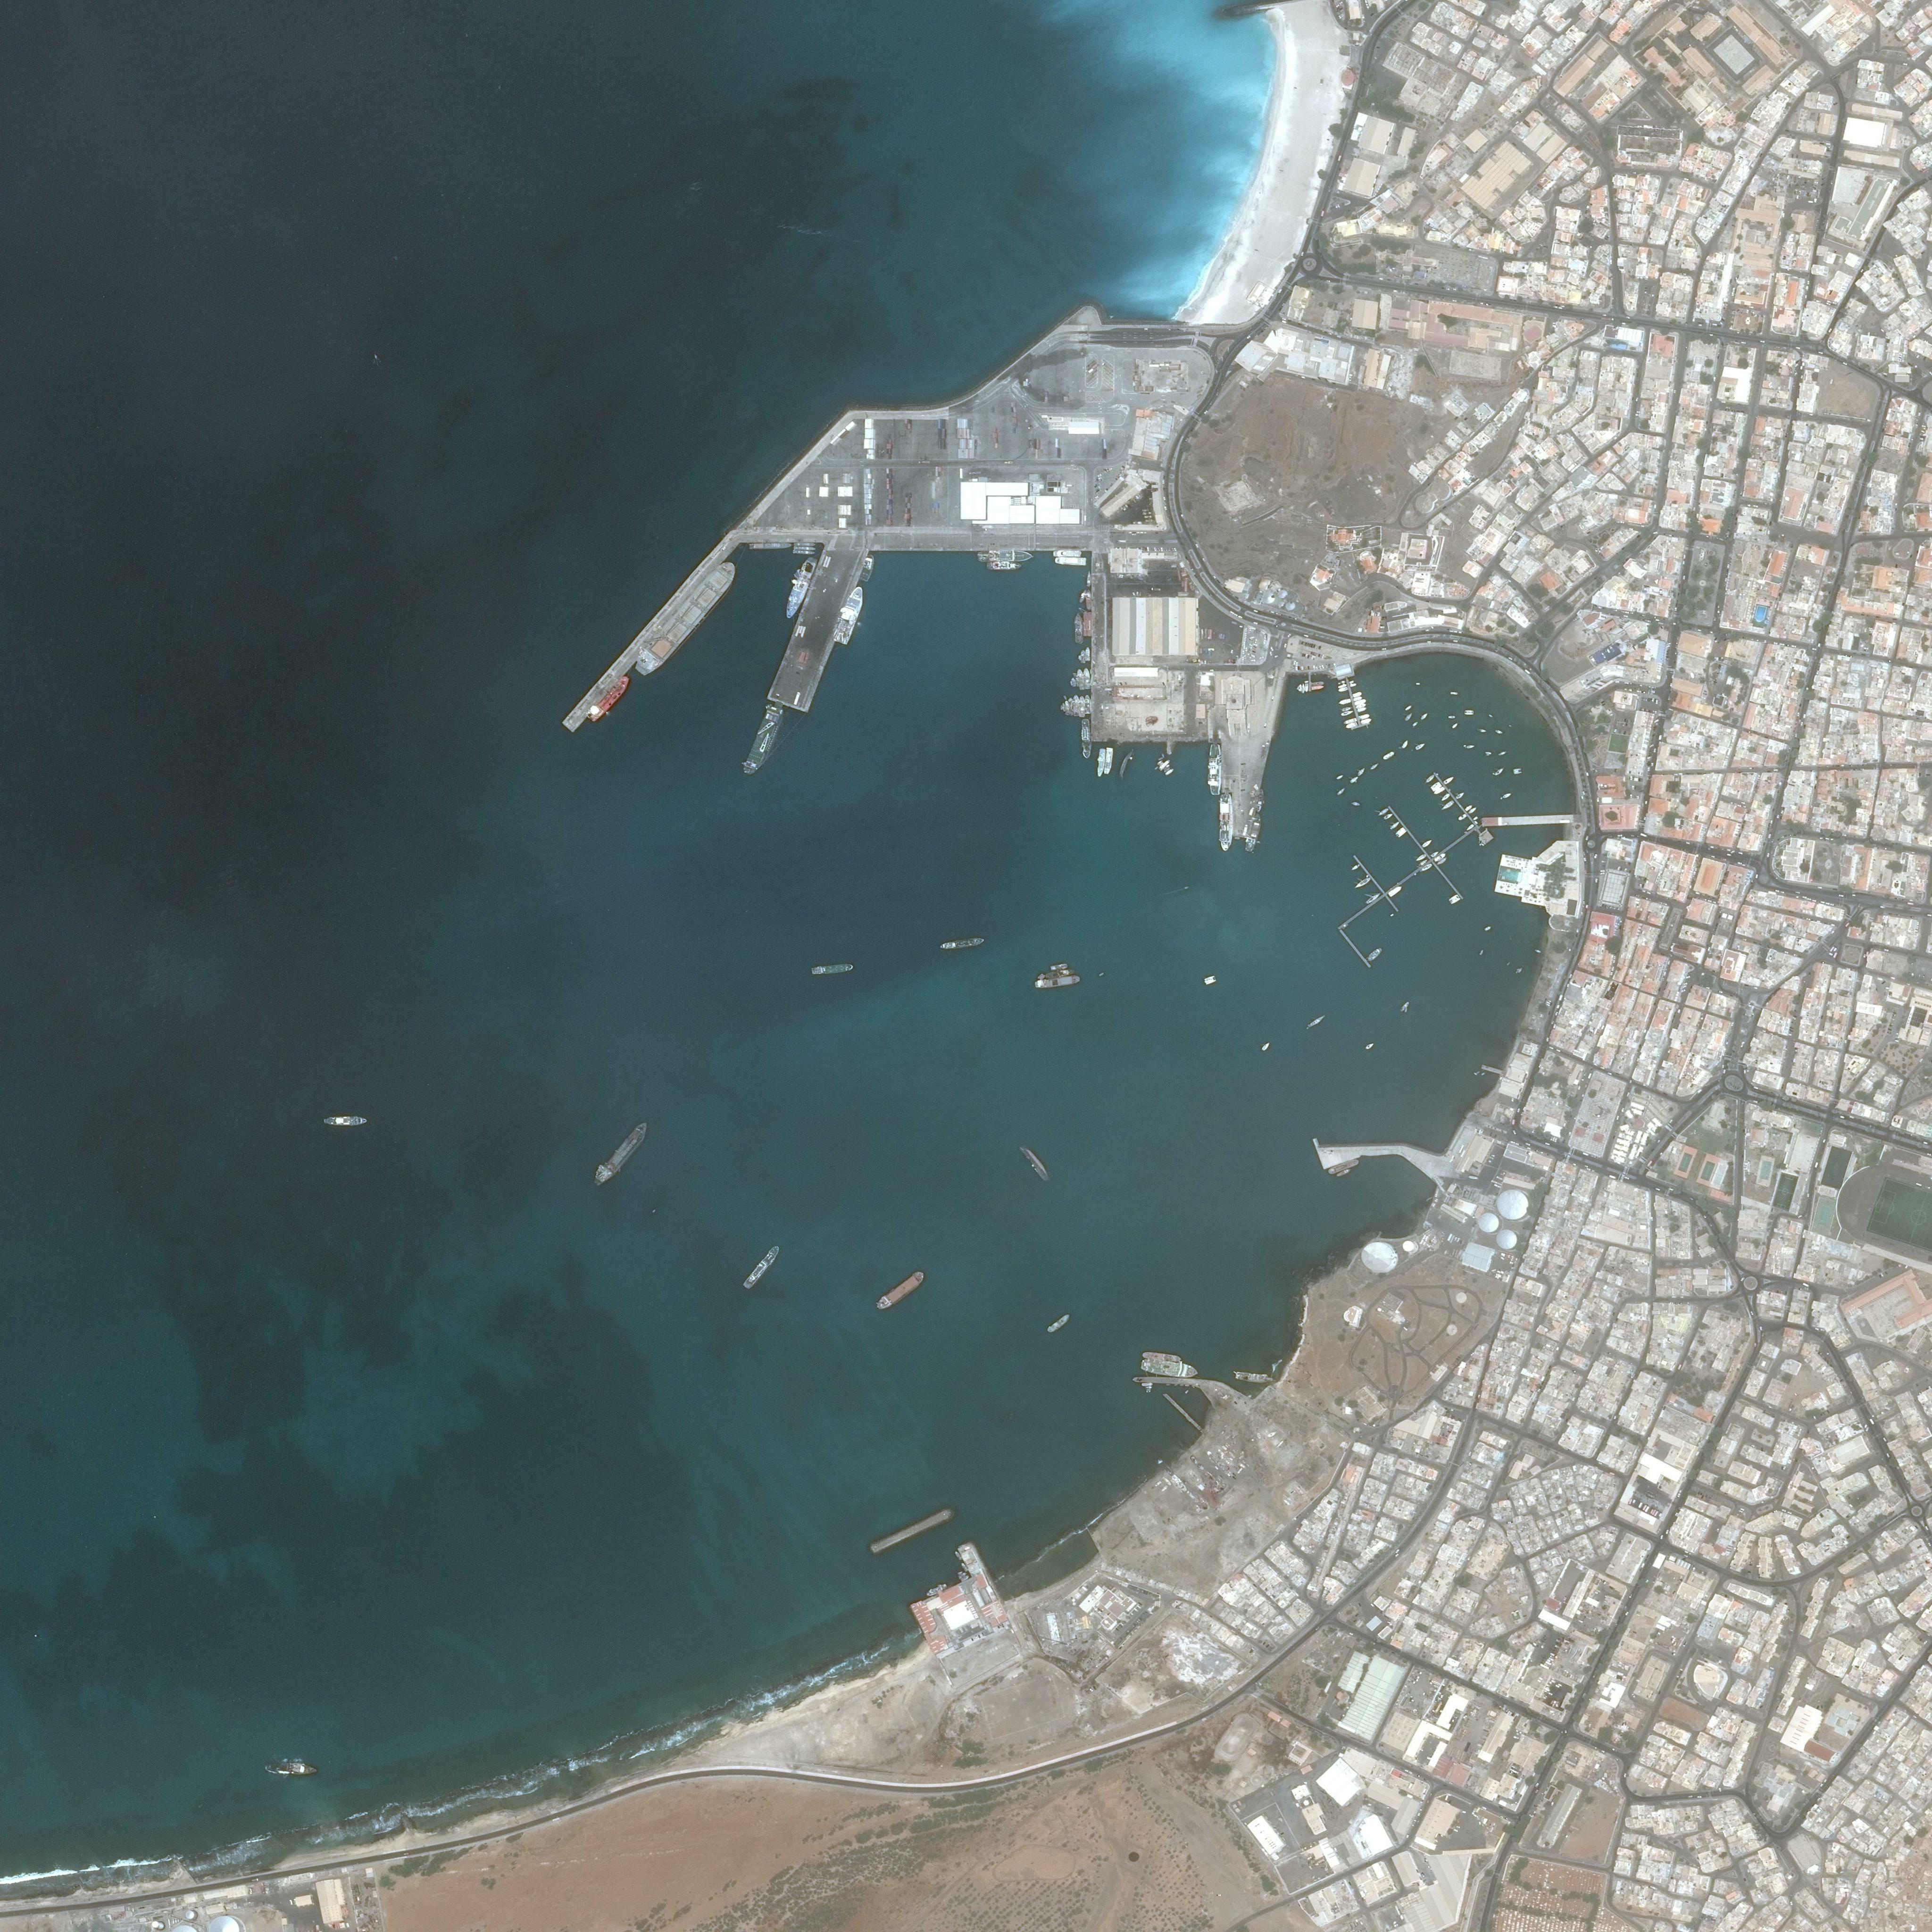harbor: (1288, 770, 1516, 970), (563, 531, 743, 732), (768, 540, 869, 713), (1116, 1366, 1258, 1424), (1313, 1132, 1445, 1189), (1488, 833, 1568, 924), (1217, 732, 1274, 846), (957, 1541, 985, 1578)
ship: (630, 557, 743, 679), (587, 1120, 655, 1189), (738, 706, 786, 778), (778, 556, 819, 621), (874, 1269, 929, 1313), (830, 584, 869, 646), (586, 674, 633, 724), (741, 1244, 782, 1290), (1139, 1355, 1200, 1382), (1219, 793, 1233, 855), (1033, 973, 1081, 991), (1207, 743, 1221, 796), (1244, 812, 1261, 855), (267, 1762, 318, 1776), (977, 550, 1035, 563), (1233, 1369, 1276, 1385), (1327, 1157, 1361, 1177), (1044, 1311, 1072, 1334), (939, 936, 985, 950), (858, 554, 878, 582), (1141, 1350, 1182, 1362), (812, 962, 853, 975), (324, 1116, 366, 1127), (1081, 718, 1092, 759), (925, 1582, 948, 1599), (985, 563, 1023, 573), (1306, 1012, 1327, 1028), (1054, 556, 1086, 566), (1095, 748, 1106, 778), (1104, 747, 1115, 775), (750, 543, 793, 550), (1352, 876, 1373, 890), (1074, 612, 1083, 646), (1366, 947, 1384, 962), (1364, 890, 1382, 906), (1046, 970, 1076, 978), (1076, 667, 1086, 690), (1334, 1166, 1353, 1178), (1256, 787, 1265, 814), (1440, 798, 1456, 812), (1387, 885, 1403, 899), (1083, 665, 1092, 690), (1072, 694, 1081, 718), (1380, 750, 1398, 763), (1053, 550, 1083, 557), (1157, 757, 1171, 771), (1083, 694, 1092, 715), (1433, 851, 1447, 863), (1394, 826, 1408, 839), (1419, 862, 1433, 874), (1415, 856, 1430, 869), (1049, 962, 1069, 971), (1079, 695, 1086, 718), (1085, 587, 1092, 610), (1083, 646, 1092, 663), (1341, 717, 1359, 725), (1260, 1040, 1272, 1053), (1421, 837, 1433, 849), (1433, 786, 1445, 798), (1415, 851, 1428, 863), (1203, 975, 1217, 985), (1376, 807, 1391, 817), (1447, 893, 1461, 904), (1077, 589, 1086, 605), (1085, 570, 1092, 589), (1467, 805, 1479, 816), (1399, 1000, 1410, 1012), (1442, 775, 1454, 786), (1353, 699, 1368, 708), (1338, 697, 1352, 706), (1341, 708, 1355, 717), (1345, 722, 1359, 731), (1435, 856, 1449, 865), (1067, 697, 1074, 715), (793, 550, 816, 556), (1493, 766, 1504, 777), (1309, 679, 1325, 686), (1419, 711, 1430, 722), (1403, 711, 1414, 722), (1364, 1040, 1375, 1051), (1463, 803, 1474, 814), (1465, 823, 1476, 833), (1336, 786, 1346, 796), (1424, 775, 1435, 786), (1164, 766, 1175, 777), (1440, 793, 1451, 803), (1369, 761, 1380, 771), (1355, 766, 1366, 777), (1355, 702, 1368, 711), (1500, 791, 1513, 800), (1511, 766, 1523, 775), (961, 1562, 970, 1573), (1454, 791, 1465, 800), (1352, 690, 1362, 699), (1430, 849, 1440, 858), (1384, 812, 1394, 821), (1415, 741, 1426, 750), (1350, 863, 1361, 872), (1348, 775, 1359, 784), (1361, 718, 1373, 725), (1355, 706, 1368, 713), (1359, 713, 1371, 720), (1497, 750, 1509, 757), (1311, 685, 1323, 692), (1338, 686, 1350, 694), (1063, 699, 1069, 715), (954, 1552, 962, 1560), (1391, 821, 1399, 830), (794, 547, 816, 550), (1079, 649, 1085, 663), (1338, 683, 1348, 690), (1341, 706, 1352, 713), (1070, 676, 1077, 686), (1350, 800, 1361, 807), (794, 543, 816, 547), (1458, 814, 1468, 821), (1477, 727, 1488, 734), (1495, 729, 1506, 736), (1141, 1382, 1154, 1387), (1353, 695, 1362, 702), (961, 1575, 970, 1582), (1295, 683, 1302, 692), (1405, 704, 1414, 711), (1336, 773, 1345, 780), (1401, 740, 1408, 748), (1484, 924, 1491, 932), (959, 1573, 968, 1580), (1348, 683, 1359, 688), (1465, 743, 1476, 748), (1412, 720, 1419, 727), (1451, 722, 1458, 729), (1484, 750, 1491, 755), (1472, 816, 1479, 821), (1300, 683, 1304, 694), (1306, 683, 1309, 694), (1463, 711, 1474, 715), (1447, 717, 1456, 720), (1451, 692, 1460, 695)
